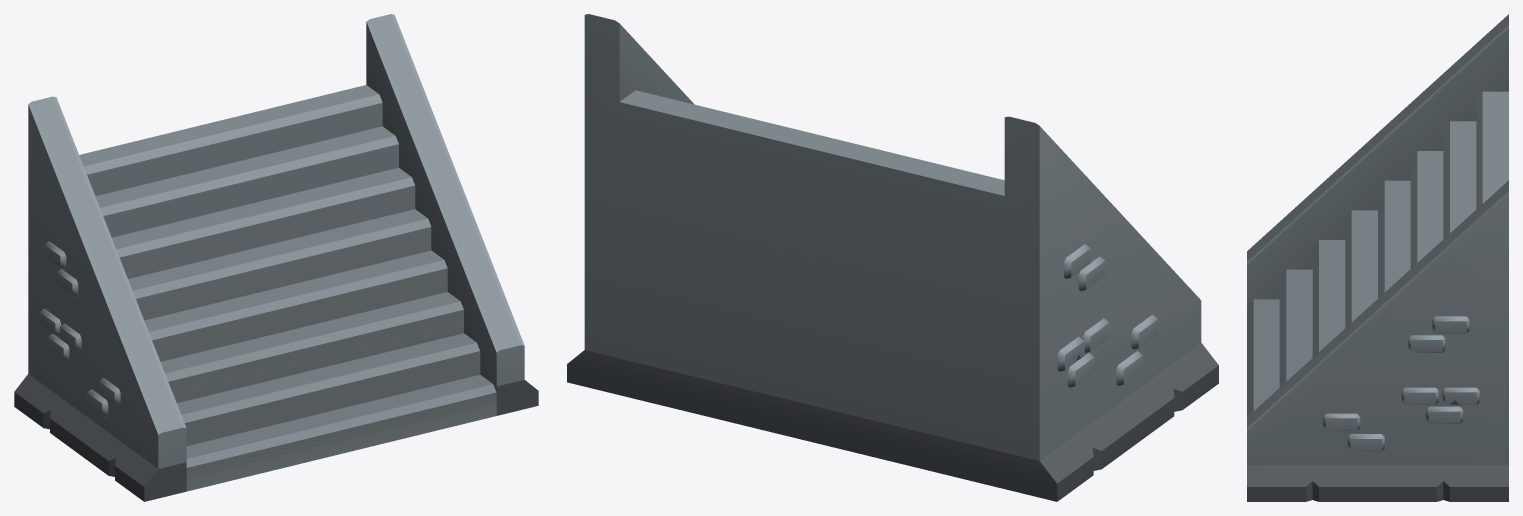
File: stairs_wide.gltf.glb
3 views of the same model, side by side, from view 1: azimuth 30°, elevation 25°; view 2: azimuth 150°, elevation 25°; view 3: azimuth 270°, elevation 25° (orthographic). The views are drawn at different scales.
Parts seen in each view (by area): view 1: stairs_wide; view 2: stairs_wide; view 3: stairs_wide.
Boxes of the visible parts, x1,y1,x2,y2 form: stairs_wide: [14, 14, 538, 501]; stairs_wide: [567, 14, 1218, 501]; stairs_wide: [1247, 14, 1508, 501].
Size of the model in its own units: 7 by 5.1 by 4.
Materials: 1 (1 with a texture image).
